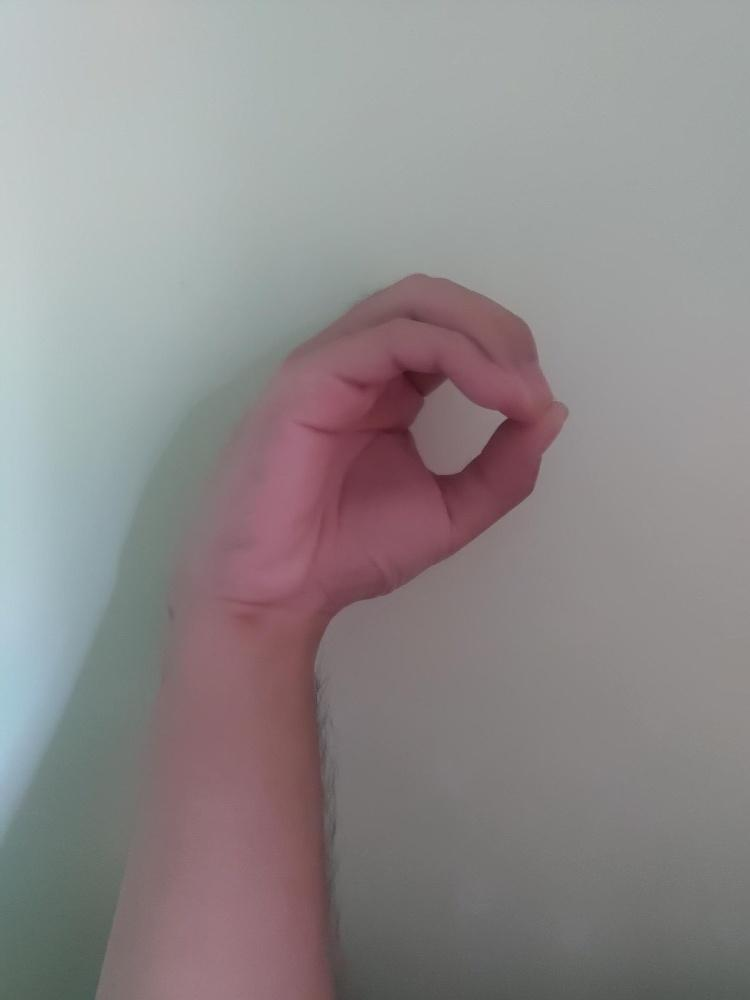o: (185, 270, 573, 619)
